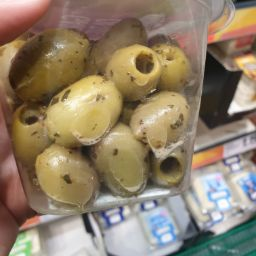Olives: (4, 15, 189, 201), (99, 25, 187, 160), (85, 86, 186, 195), (15, 94, 105, 200), (7, 26, 86, 104)
